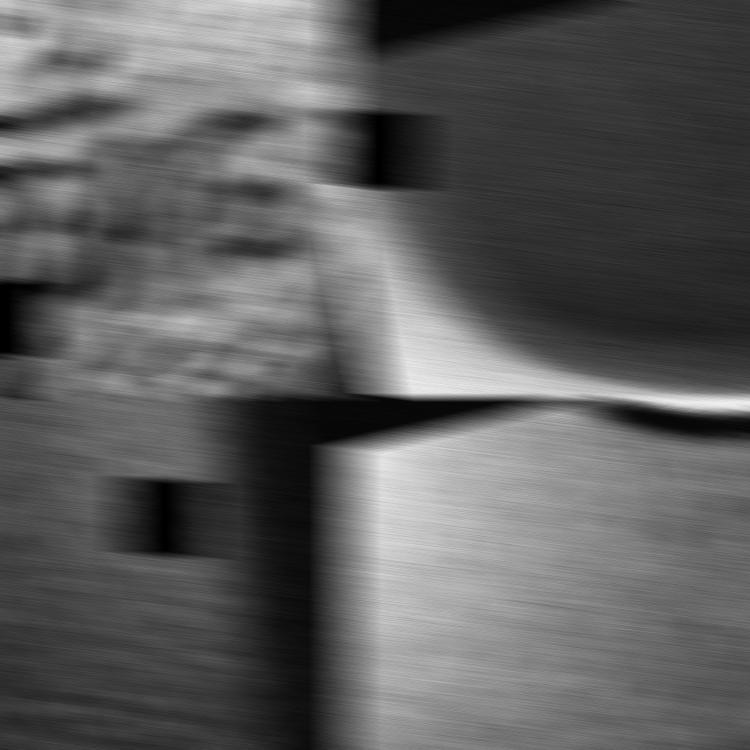Airbag: (336, 0, 750, 398), (336, 396, 750, 750), (0, 0, 354, 398), (0, 396, 354, 750)
